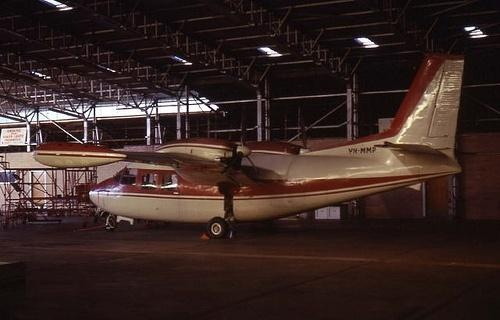aeroplane: (25, 49, 473, 247)
